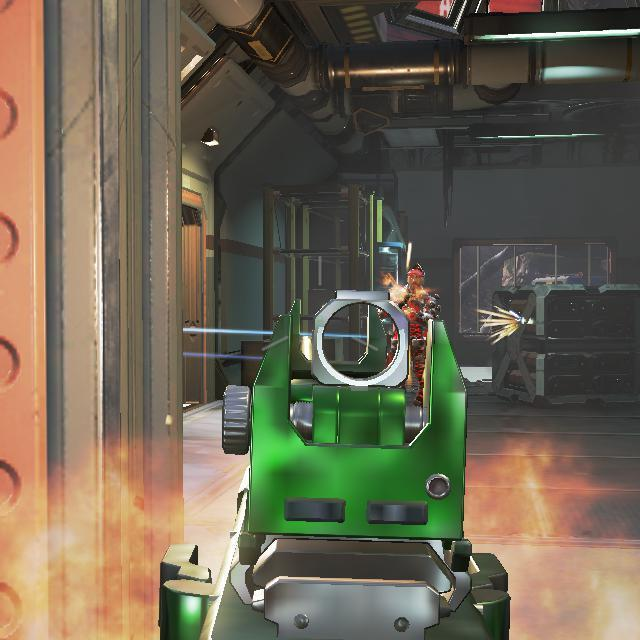avatar: (375, 259, 442, 409)
